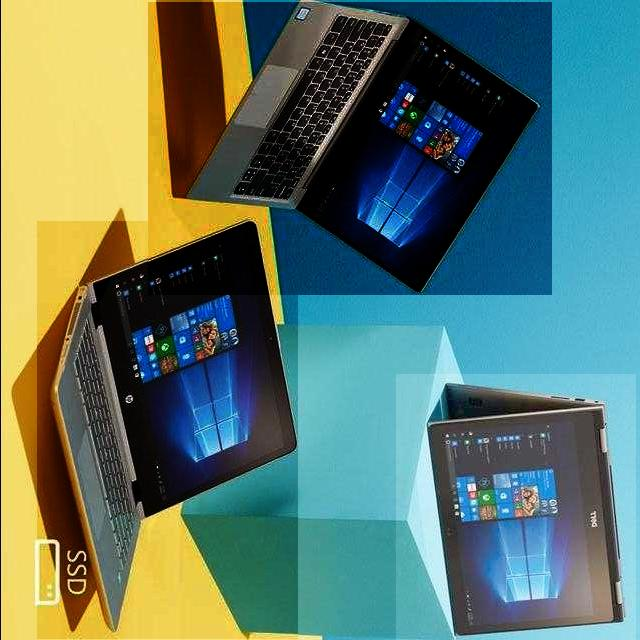-keyboard-: (148, 2, 552, 295), (37, 222, 298, 640), (396, 374, 636, 640)
